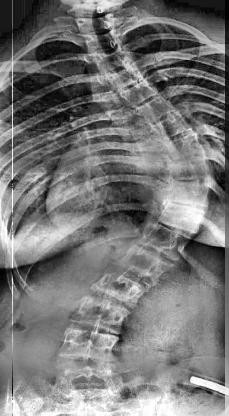Vertebrae: (112, 243, 176, 292), (89, 264, 153, 310), (67, 295, 133, 337), (56, 327, 122, 367), (137, 220, 191, 262), (158, 200, 208, 236), (165, 128, 209, 164), (153, 108, 195, 144), (165, 156, 213, 186), (167, 177, 212, 209), (136, 94, 180, 126), (83, 29, 127, 59), (119, 79, 160, 109), (105, 64, 146, 92), (96, 47, 136, 75), (75, 14, 115, 36)
